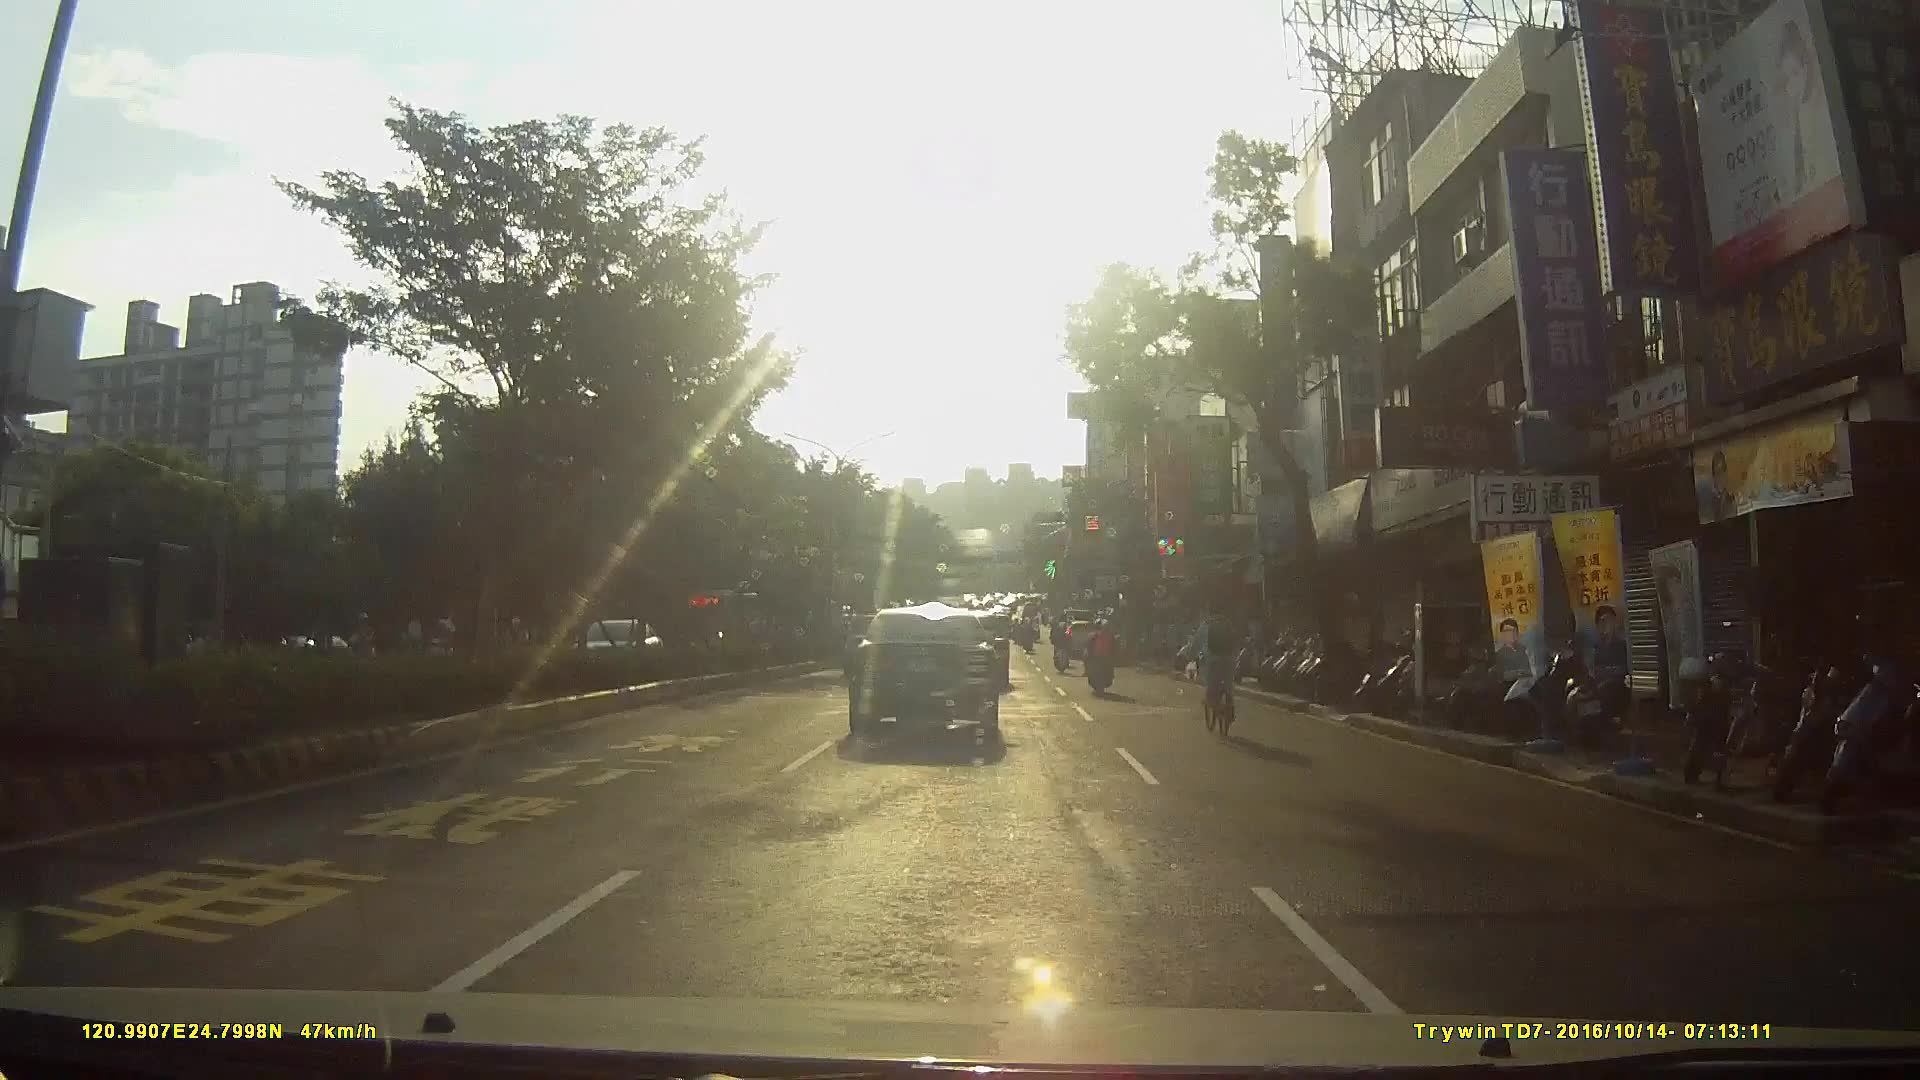rider: (1191, 593, 1255, 738), (1084, 612, 1118, 689), (1051, 614, 1073, 671)
vehicle: (847, 605, 1014, 753)
